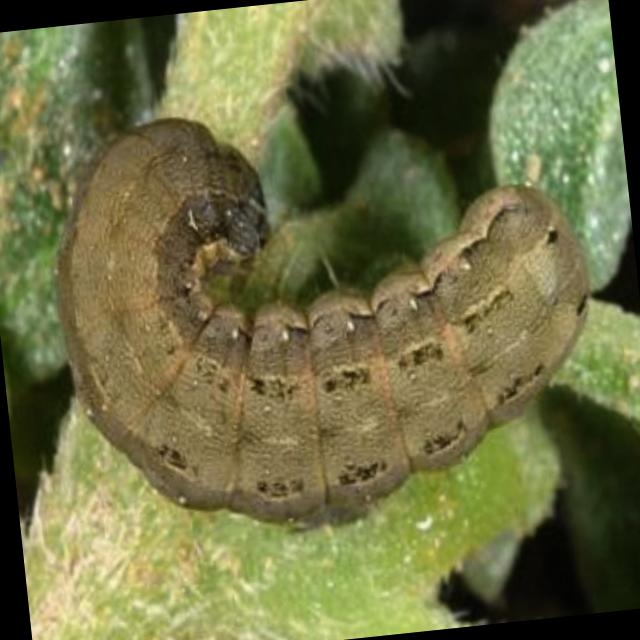Beet armyworm: (1, 46, 634, 568)
